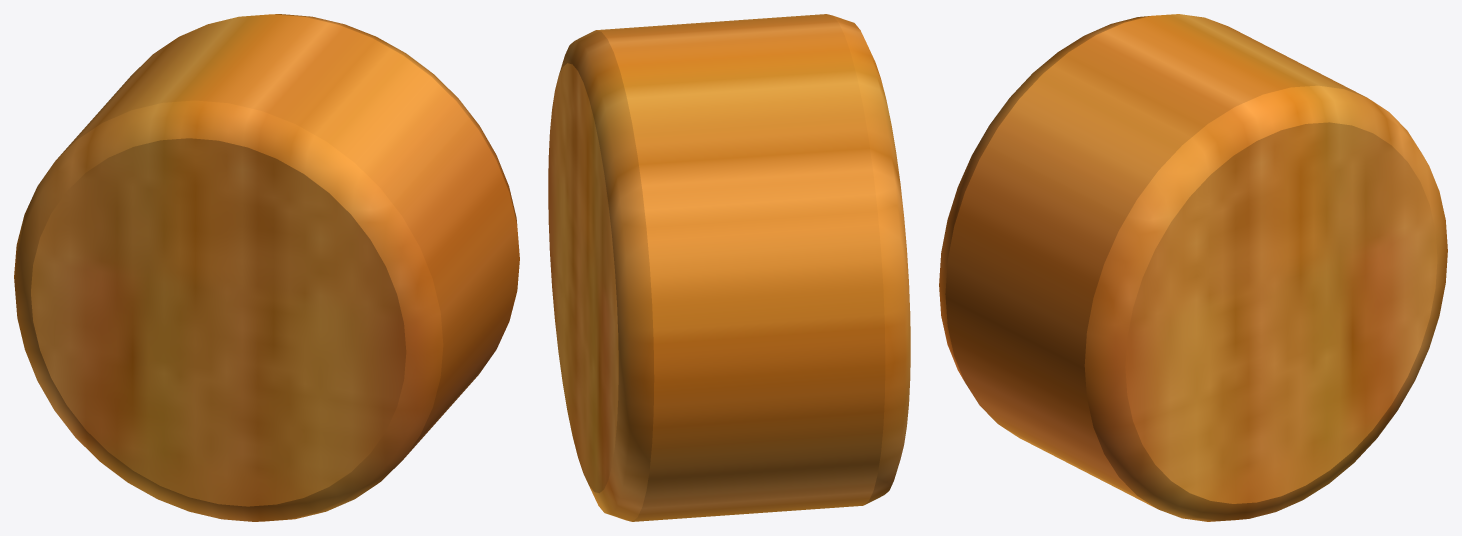
The model's file is original-3.obj.
3 views of the same model, side by side, from view 1: azimuth 30°, elevation 25°; view 2: azimuth 150°, elevation 25°; view 3: azimuth 270°, elevation 25° (orthographic). The views are drawn at different scales.
Visible parts, largest first — view 1: Component_3_1/Component_3/mesh2/mesh2-geometry#mesh2-geometry; view 2: Component_3_1/Component_3/mesh2/mesh2-geometry#mesh2-geometry; view 3: Component_3_1/Component_3/mesh2/mesh2-geometry#mesh2-geometry.
Boxes of the visible parts, x1=… form: Component_3_1/Component_3/mesh2/mesh2-geometry#mesh2-geometry: x1=14, y1=14, x2=519, y2=521; Component_3_1/Component_3/mesh2/mesh2-geometry#mesh2-geometry: x1=548, y1=14, x2=910, y2=521; Component_3_1/Component_3/mesh2/mesh2-geometry#mesh2-geometry: x1=939, y1=14, x2=1447, y2=521.
Size of the model in its own units: 0.1164 by 0.1112 by 0.1225.
